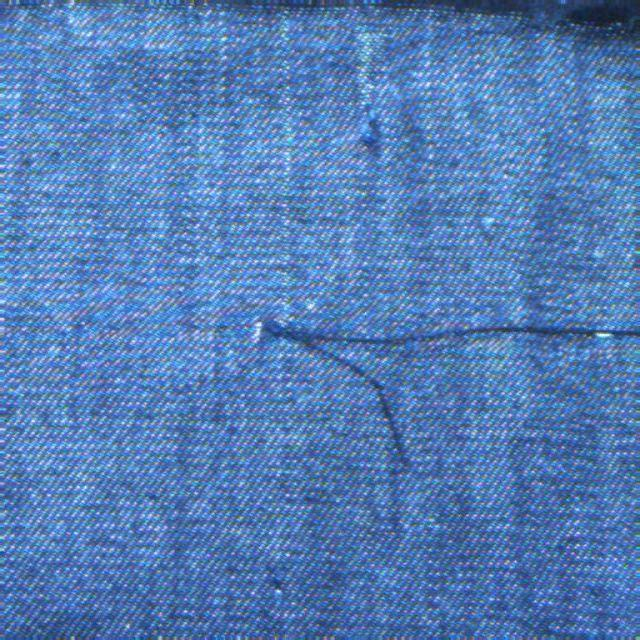defect: (243, 316, 640, 469)
